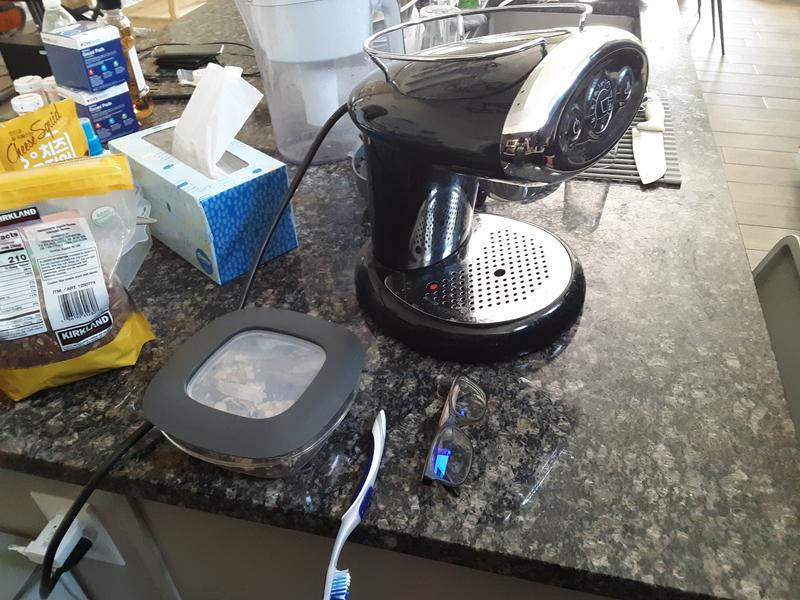glasses: (424, 368, 491, 492)
